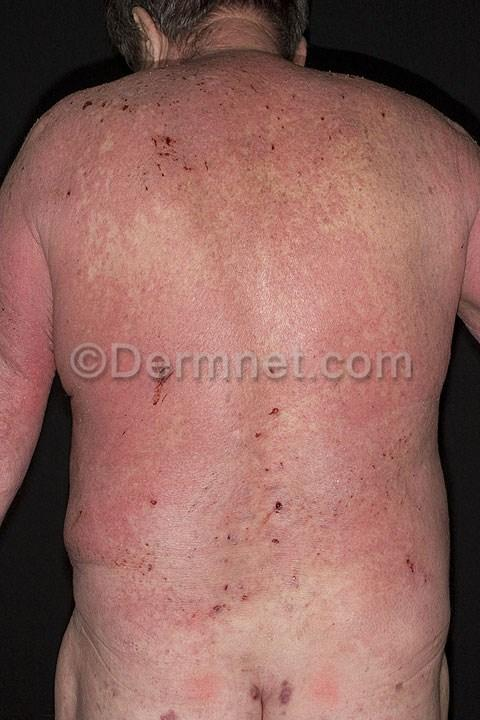eritema 3: (0, 57, 479, 633)
exudacion 2: (63, 355, 430, 629), (29, 57, 413, 201)
